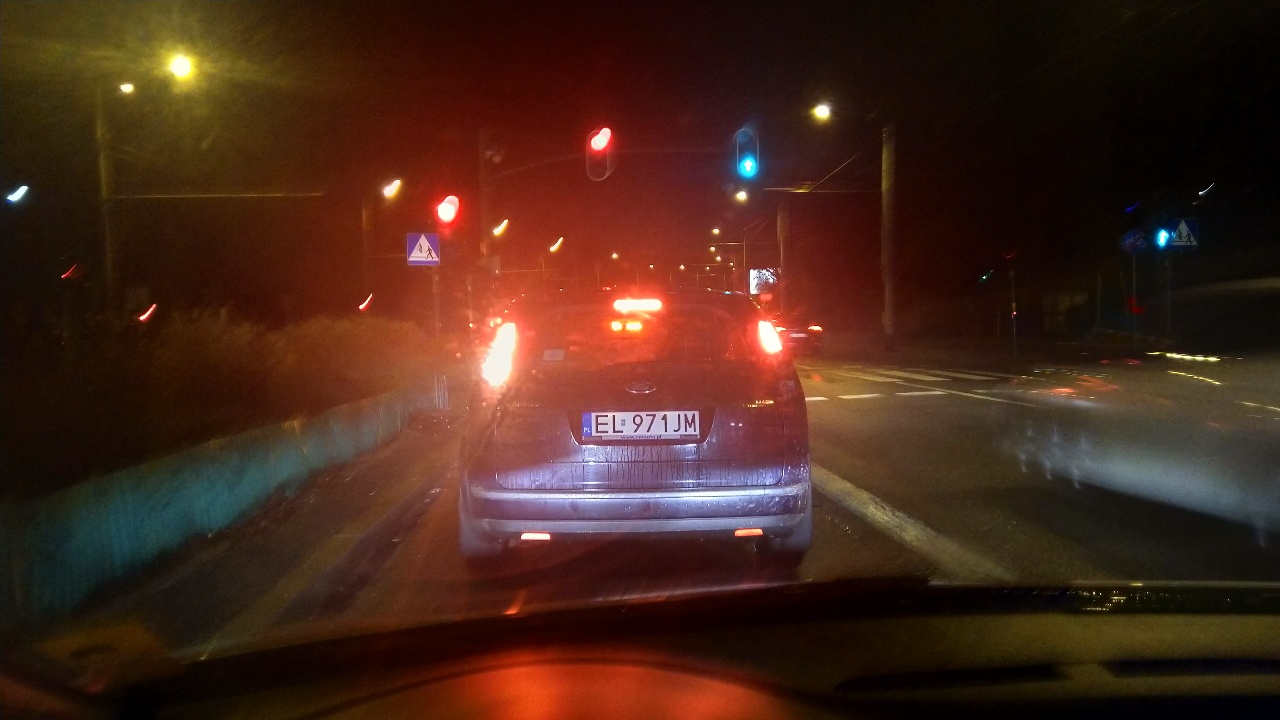D6b: (407, 231, 440, 266)
Green: (739, 131, 757, 175)
Red: (590, 134, 608, 177)
